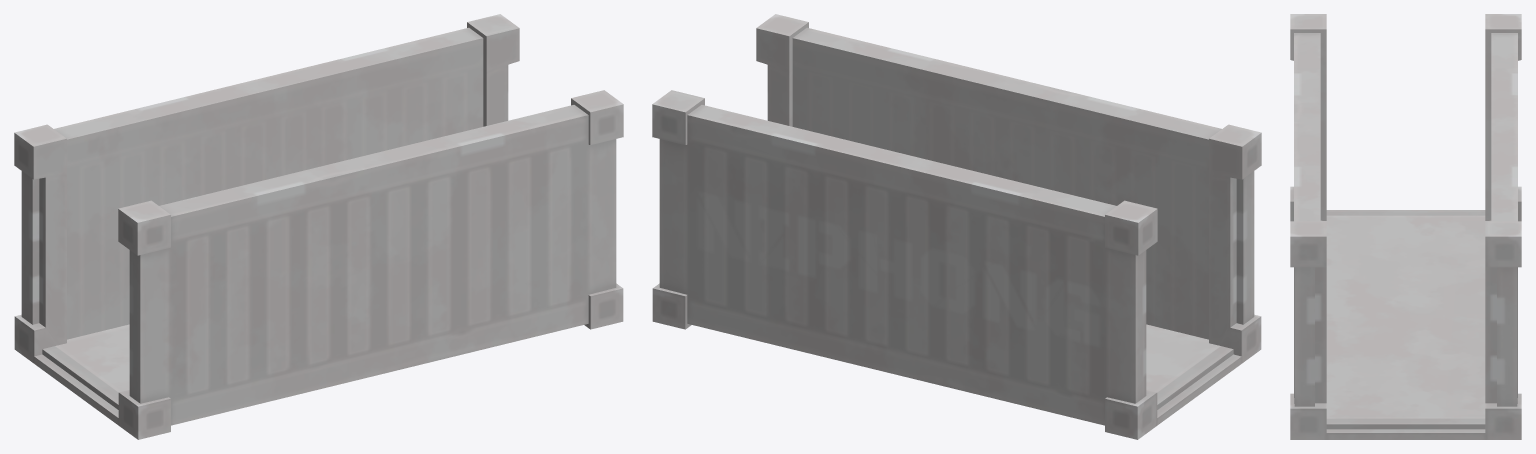
Rendered from SM_Container_Ground.fbx.
3 renders of one model, left to right at view 1: azimuth 30°, elevation 25°; view 2: azimuth 150°, elevation 25°; view 3: azimuth 270°, elevation 25°, orthographic. The views are drawn at different scales.
Parts seen in each view (by area): view 1: SM_Container_Ground; view 2: SM_Container_Ground; view 3: SM_Container_Ground.
Part boxes in pixels (x1,y1,x2,y2): SM_Container_Ground: [14, 14, 623, 439]; SM_Container_Ground: [652, 14, 1261, 439]; SM_Container_Ground: [1290, 14, 1521, 439].
Size of the model in its own units: 6.58 by 2.81 by 2.9.
